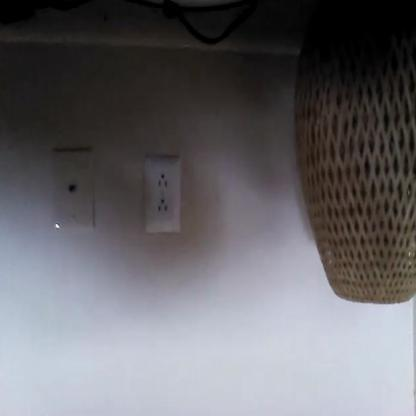OUTLET: (142, 154, 182, 236)
